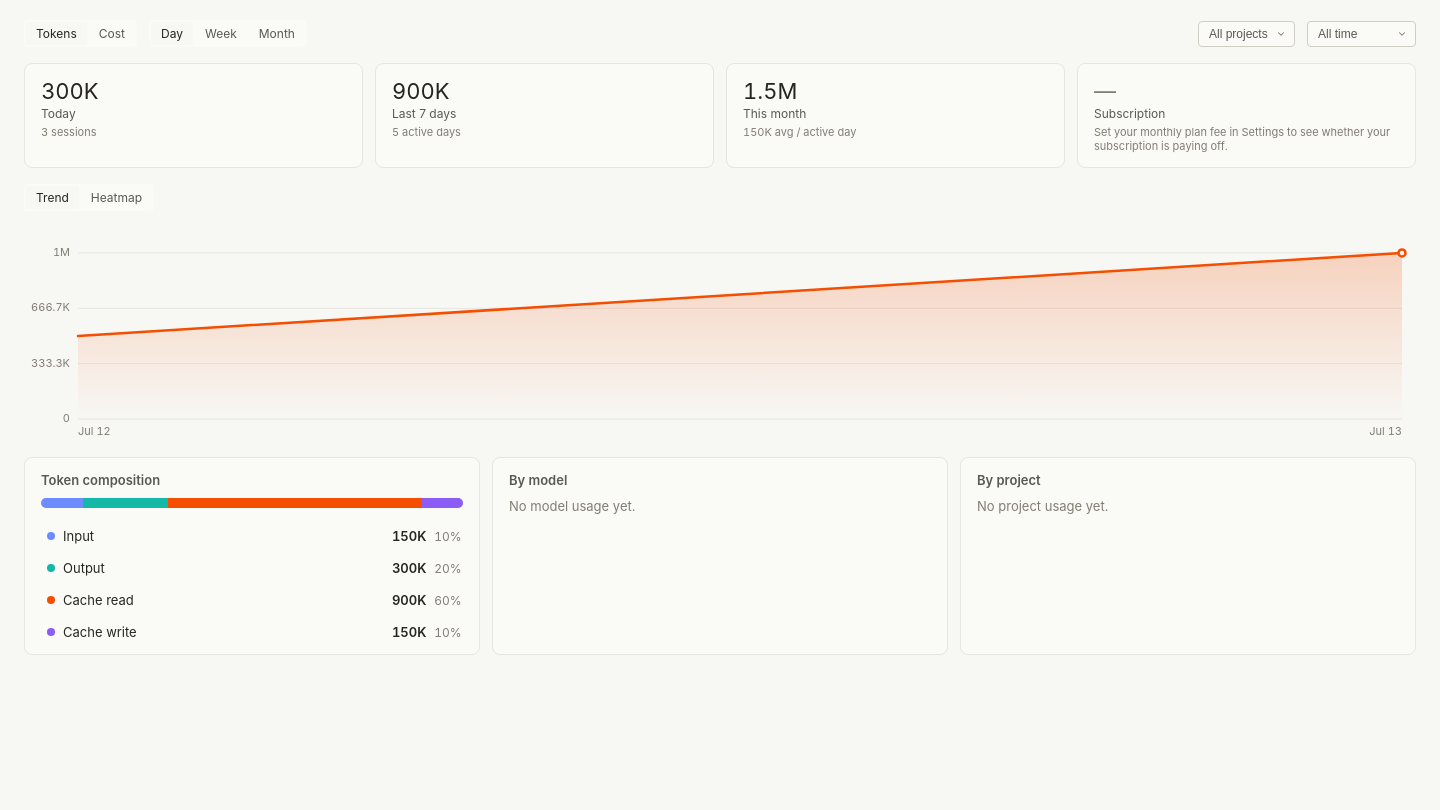
it: UsageDashboard › toggles to the heatmap, hiding granularity but keeping metric + range
Expected: the picture named "usage trend by tokens" is shown, [24, 221, 1416, 441]
Expected: the button "Week" is shown, [195, 22, 247, 45]
Click the button "Heatmap". click: (116, 198)
box: [81, 186, 152, 209]
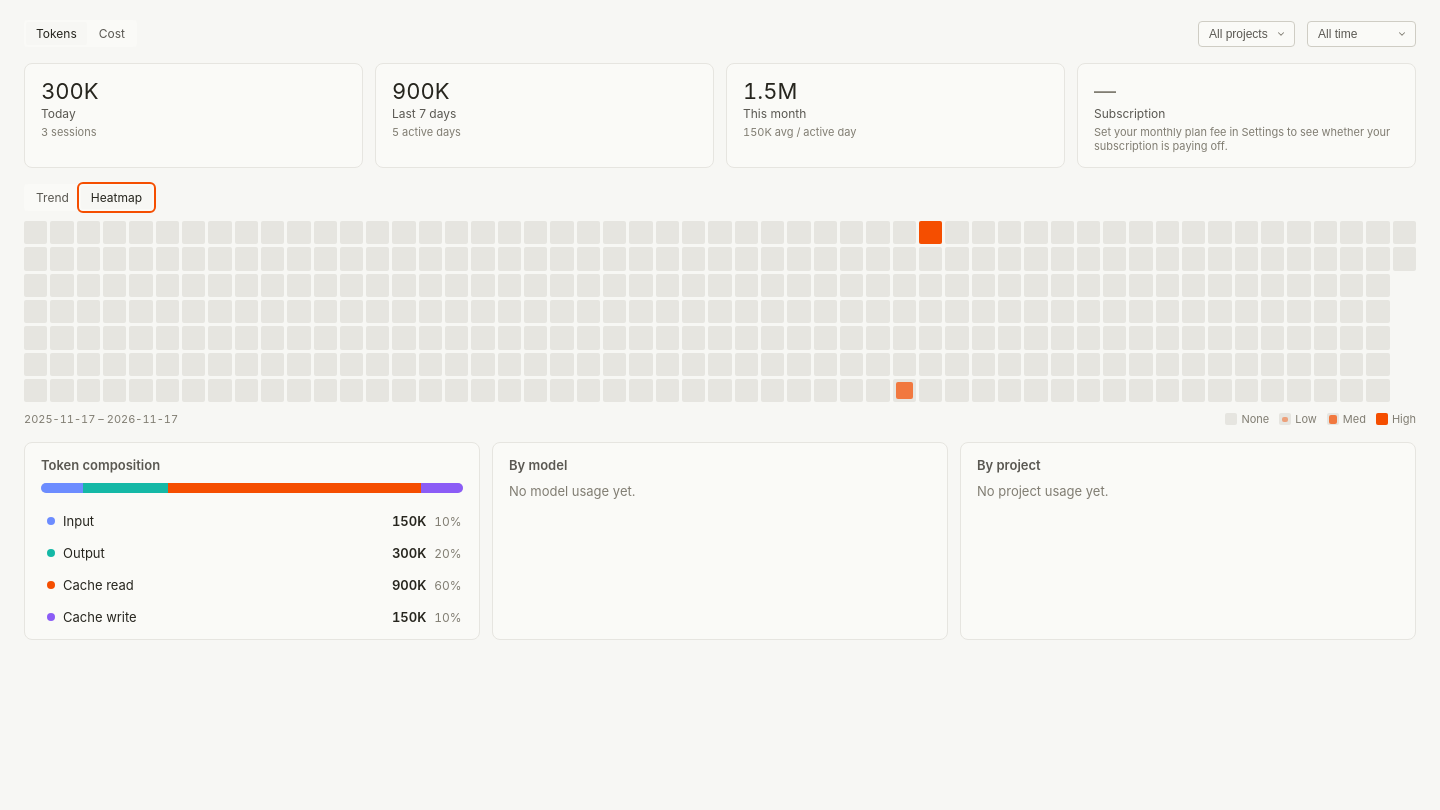
Expected: the button "Cost" is shown, [89, 22, 135, 45]
Result: the picture named "activity heatmap by tokens" is shown at [24, 221, 1416, 402]
Result: the button "Week" is gone
